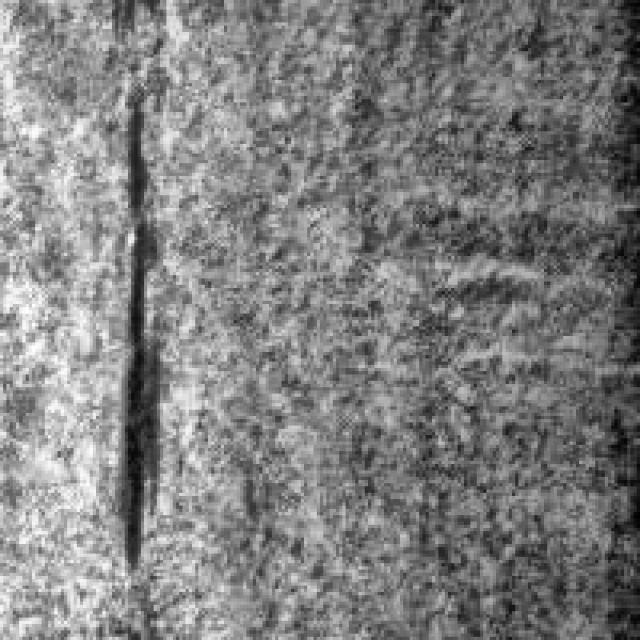Patches: (96, 70, 182, 586)
